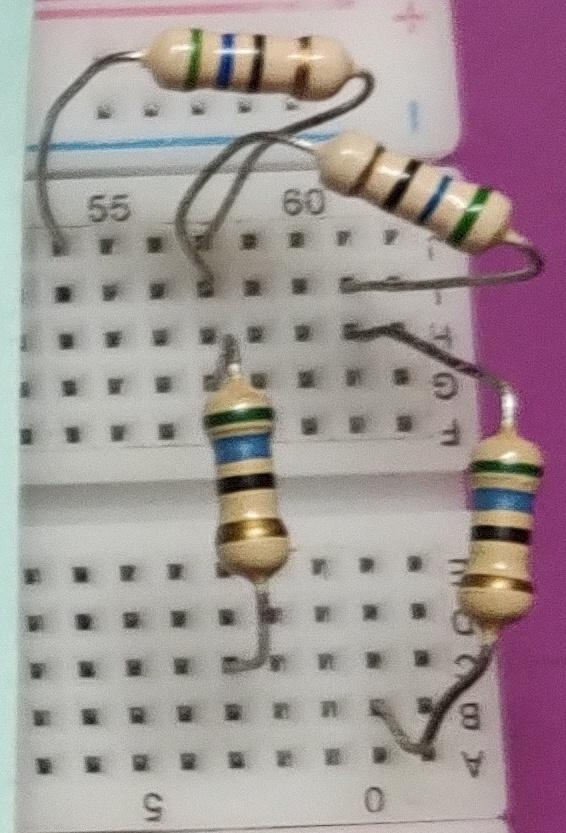resistor: (305, 125, 517, 255), (194, 380, 316, 591), (450, 419, 554, 632), (137, 15, 364, 111)
